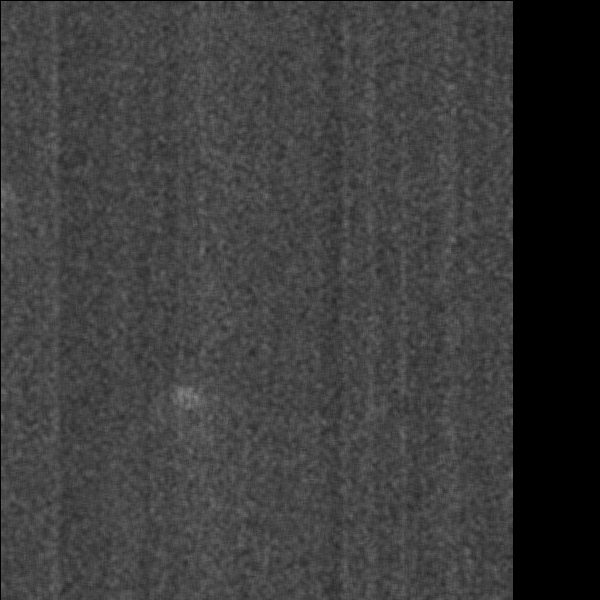spark: (213, 497, 262, 561)
